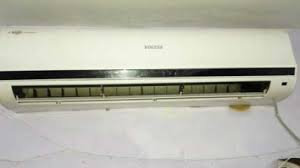ac: (1, 25, 299, 112)
